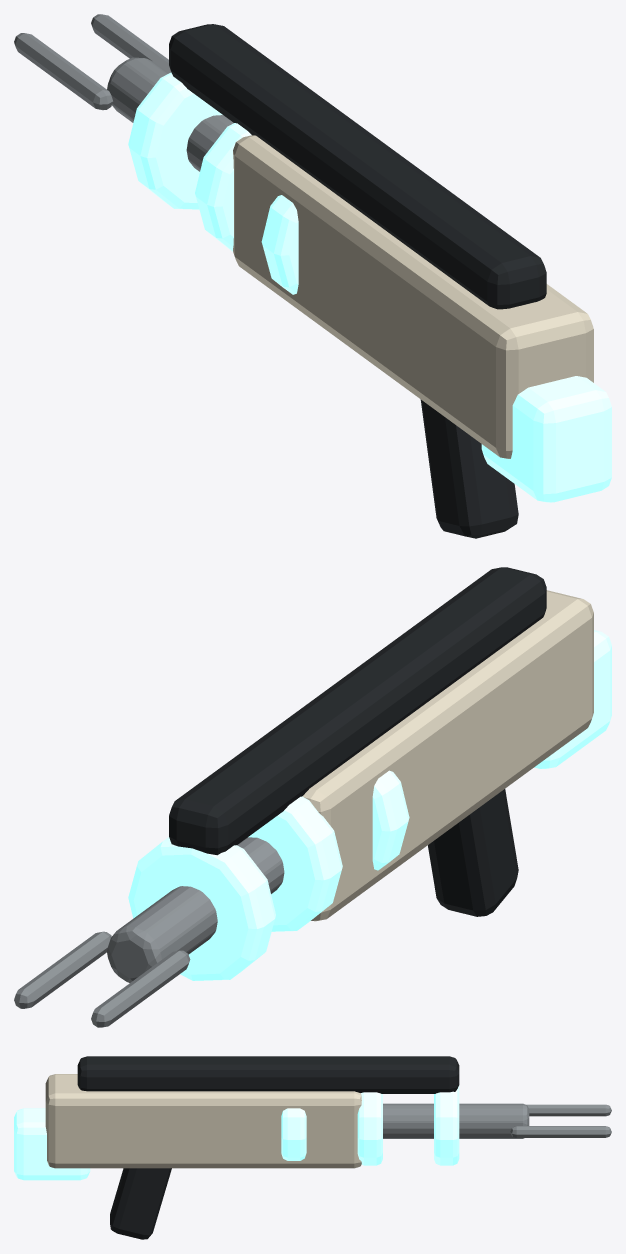
Rendered from arc_lance.glb.
The picture shows the model from 3 angles, top to bottom: view 1: azimuth 30°, elevation 25°; view 2: azimuth 150°, elevation 25°; view 3: azimuth 270°, elevation 25°; orthographic projection. The views are drawn at different scales.
Parts seen in each view (by area): view 1: body, spine, cell, grip, coil0, coil1, emitter, coil2, prong_l, prong_r; view 2: body, spine, coil0, grip, emitter, coil1, coil2, cell, prong_l, prong_r; view 3: body, spine, emitter, grip, cell, coil0, coil1, coil2, prong_r, prong_l.
Boxes of the visible parts, <box> form: body: <box>233,135,593,458</box>; spine: <box>169,24,546,309</box>; cell: <box>481,376,611,502</box>; grip: <box>420,399,518,538</box>; coil0: <box>128,72,222,209</box>; coil1: <box>195,123,251,251</box>; emitter: <box>107,57,233,171</box>; coil2: <box>261,195,298,294</box>; prong_l: <box>14,33,113,110</box>; prong_r: <box>91,14,170,72</box>; body: <box>302,590,593,921</box>; spine: <box>169,567,546,855</box>; coil0: <box>128,837,275,980</box>; grip: <box>428,789,518,916</box>; emitter: <box>107,837,284,982</box>; coil1: <box>248,796,342,931</box>; coil2: <box>372,770,409,870</box>; cell: <box>534,630,611,768</box>; prong_l: <box>91,950,190,1027</box>; prong_r: <box>14,931,111,1008</box>; body: <box>45,1074,361,1168</box>; spine: <box>77,1056,459,1093</box>; emitter: <box>383,1103,529,1138</box>; grip: <box>110,1168,171,1239</box>; cell: <box>14,1108,90,1180</box>; coil0: <box>434,1085,459,1165</box>; coil1: <box>357,1092,382,1165</box>; coil2: <box>281,1108,306,1160</box>; prong_r: <box>510,1126,611,1137</box>; prong_l: <box>526,1104,611,1116</box>.
Size of the model in its own units: 0.14 by 0.3026 by 0.94.
